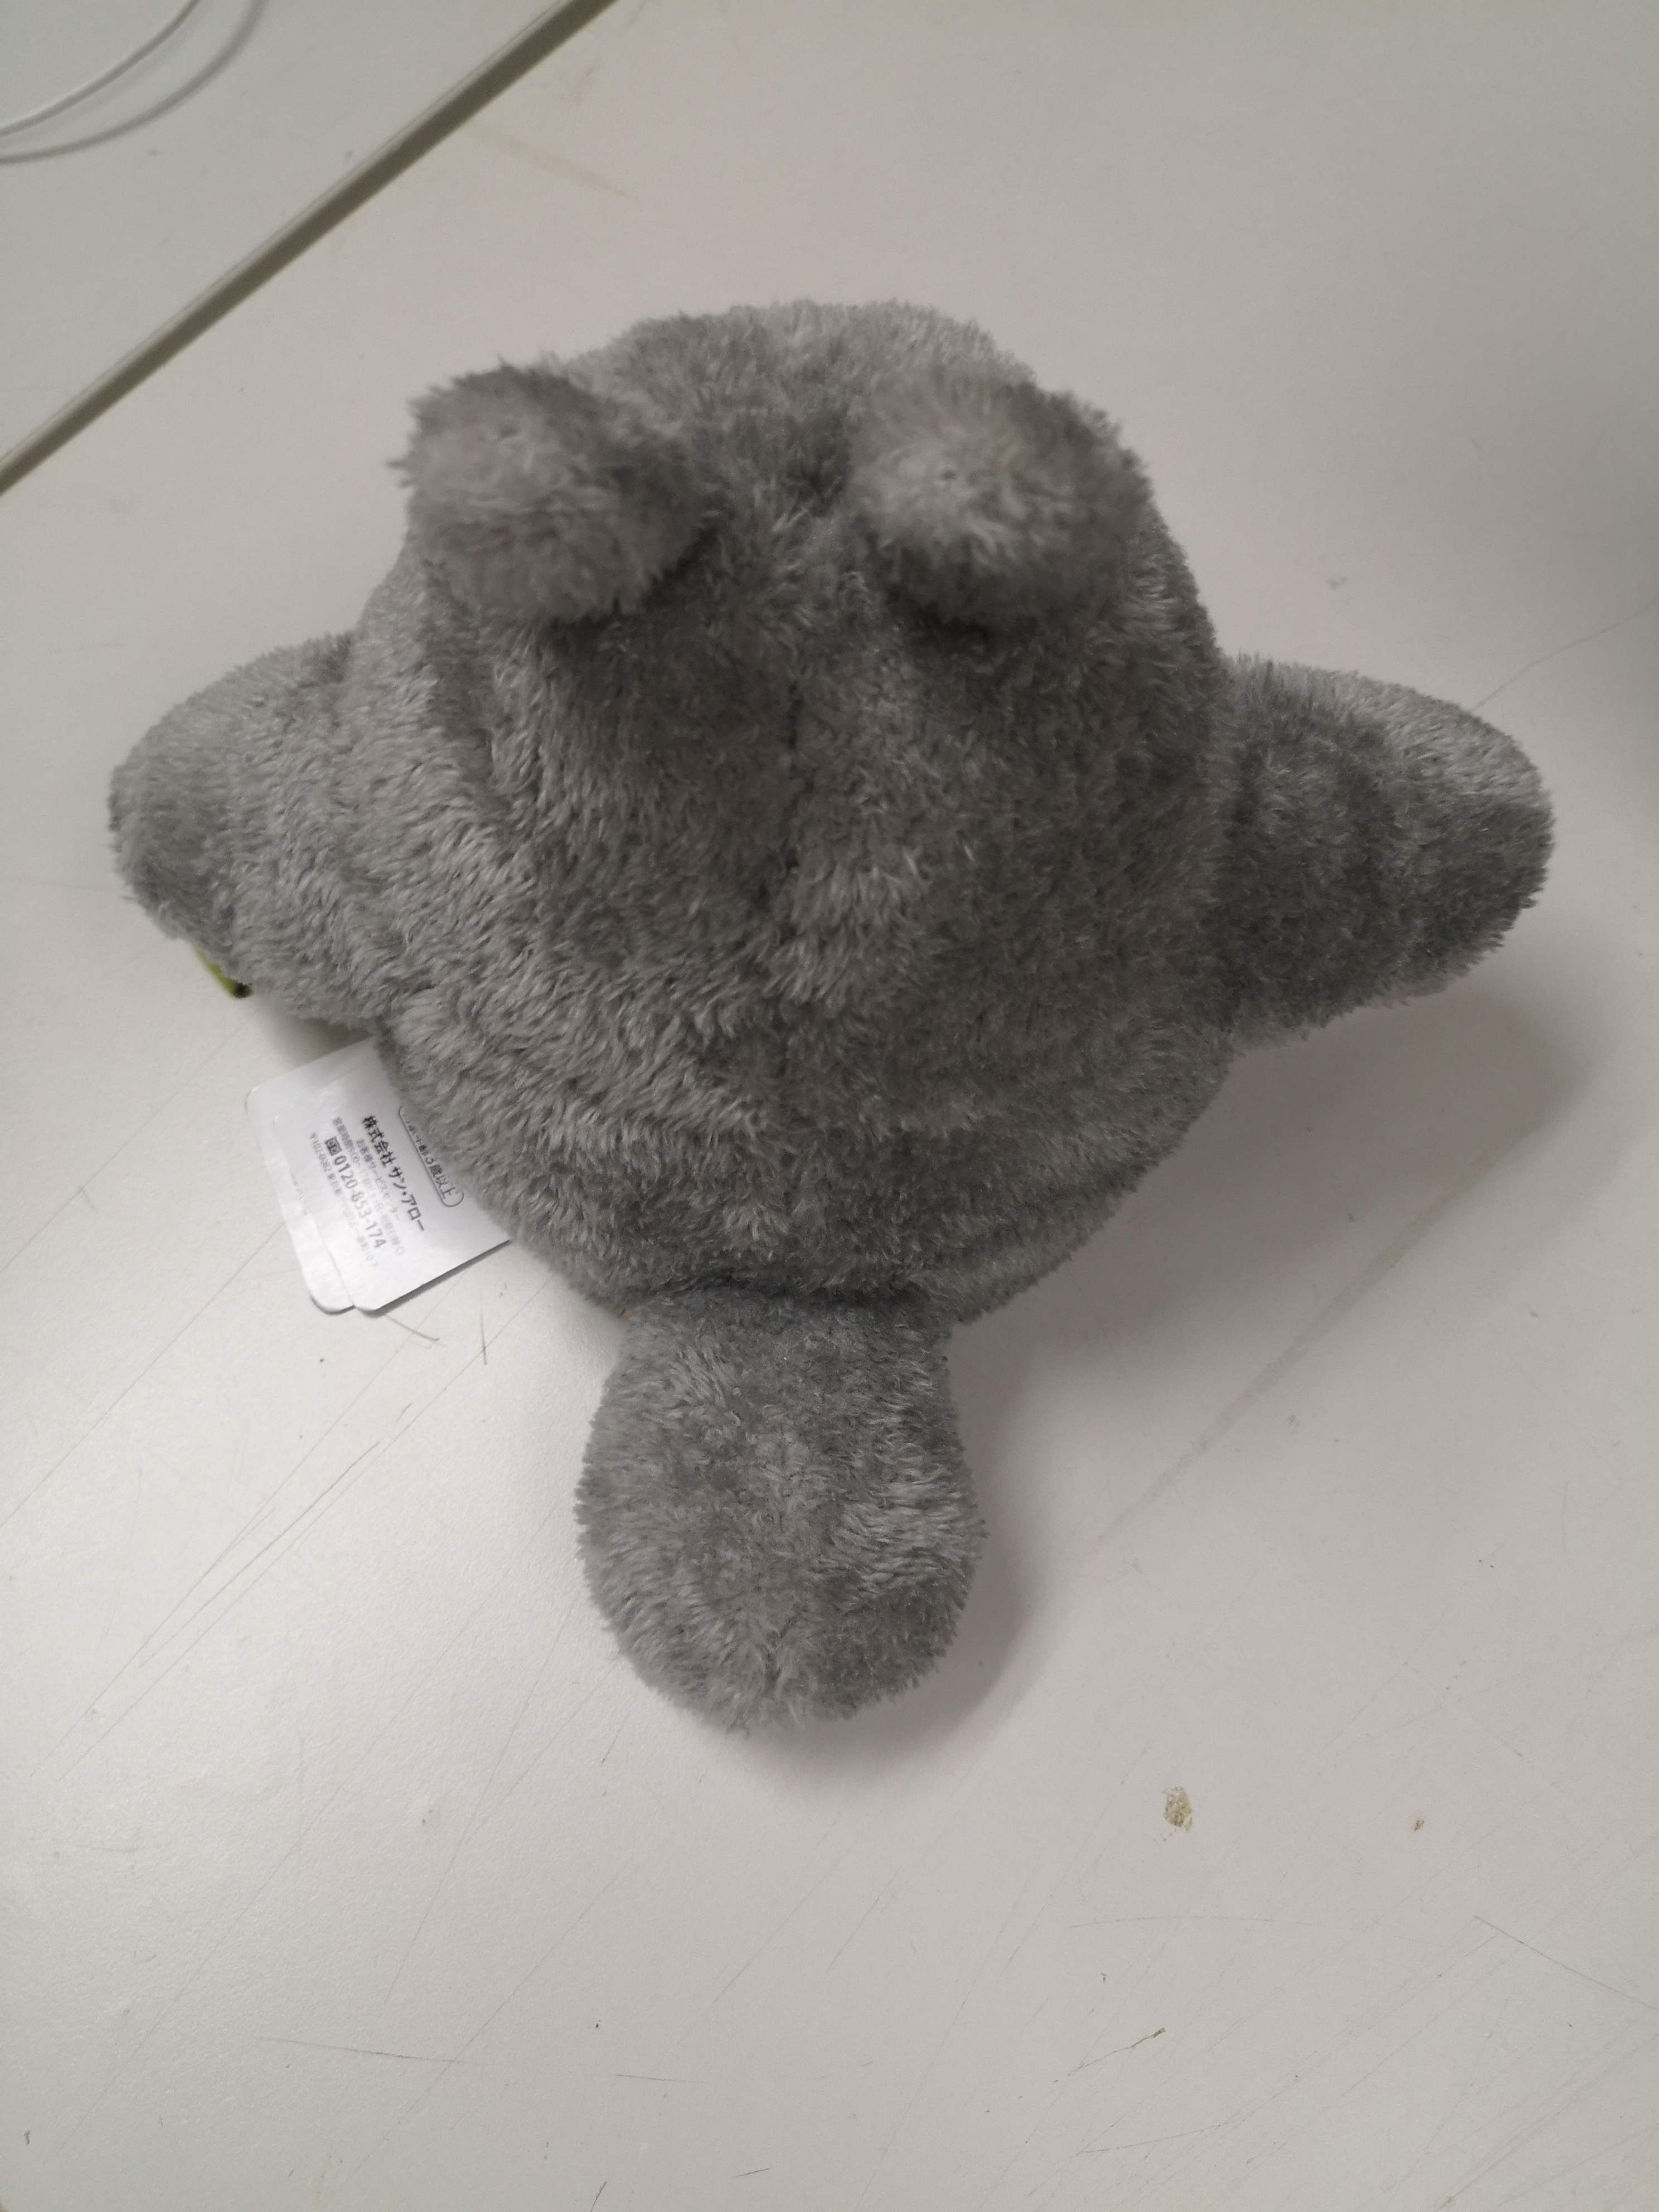totoro: (84, 277, 1570, 1747)
